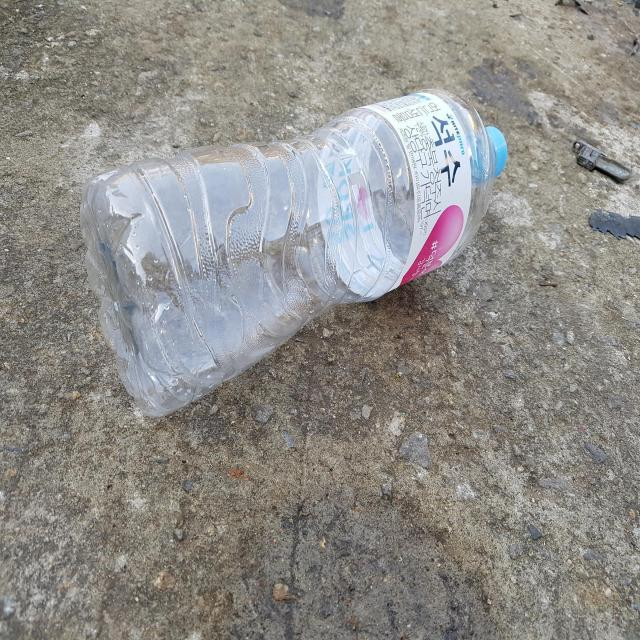plastic: (80, 89, 508, 416)
